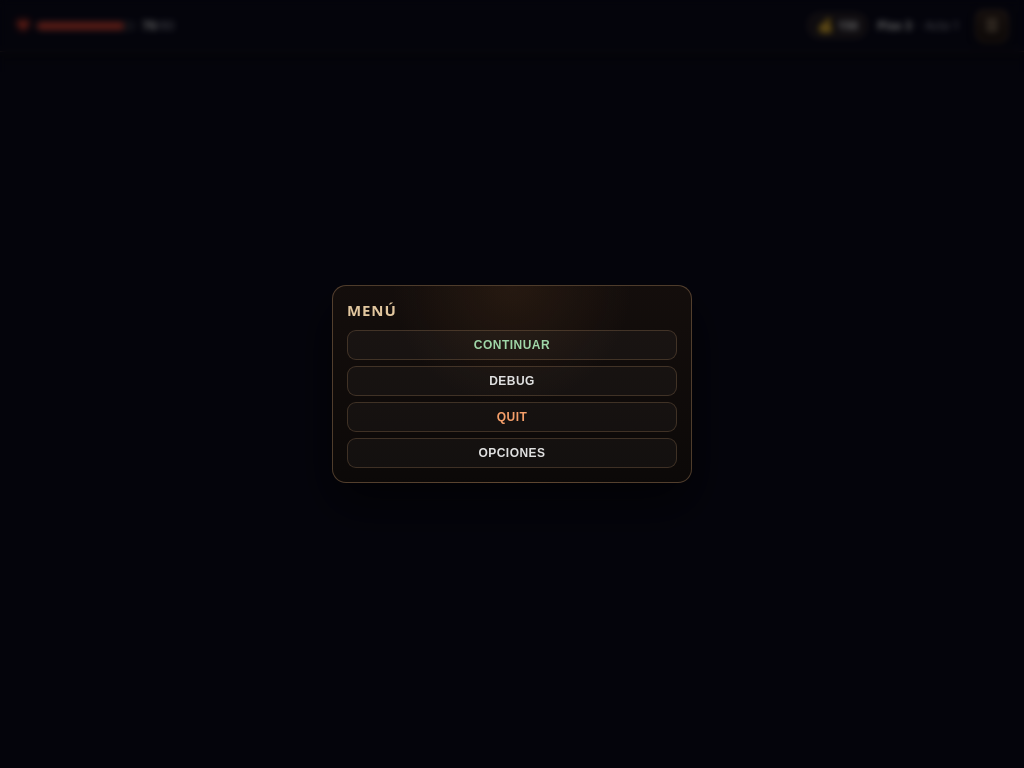
Test case: PlayerStatusBarComponent › abre el modal de opciones desde el menú rápido
Click the button with class "status-menu__item" showing "Opciones": click(512, 453) [347,438,677,468]
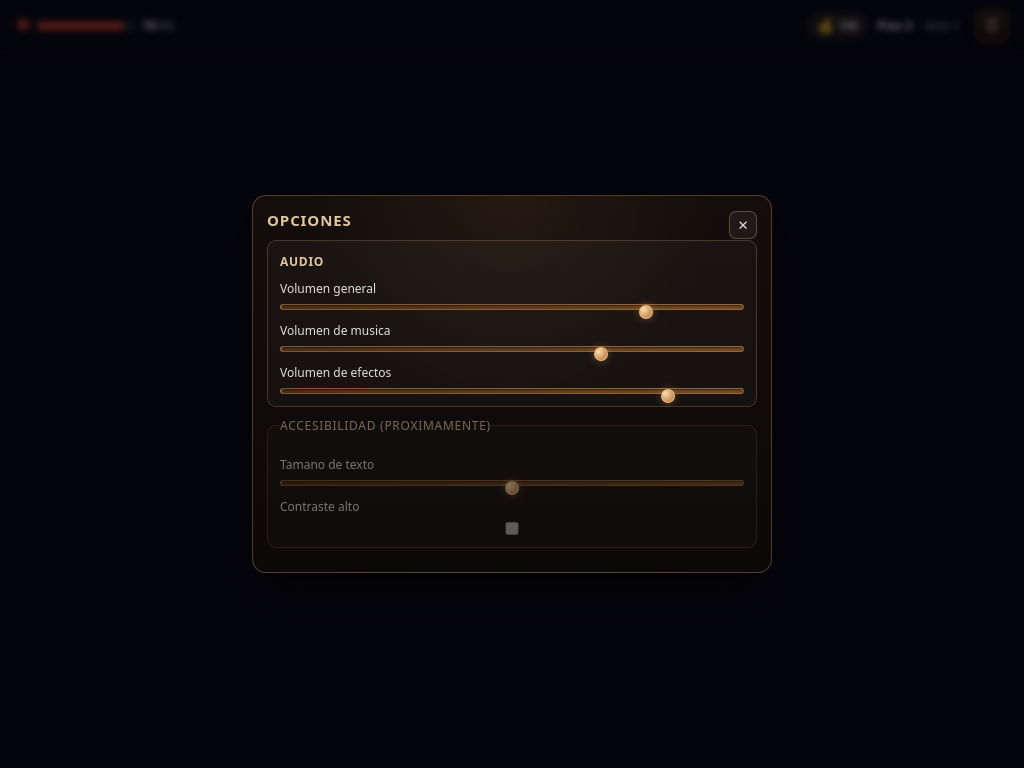
Now the dialog with class "status-menu-options" is shown, box [252,195,772,573]
